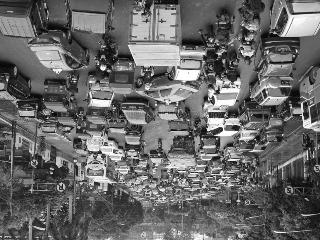mobil: (27, 30, 89, 74), (255, 34, 303, 80), (134, 74, 202, 104), (247, 72, 291, 108), (173, 43, 205, 82), (209, 74, 241, 106), (85, 73, 111, 108), (238, 100, 268, 128), (120, 100, 154, 124), (201, 98, 227, 125)
motor: (93, 34, 119, 72), (214, 8, 232, 50), (237, 32, 255, 65), (136, 64, 156, 88), (68, 73, 80, 100), (108, 100, 120, 124), (193, 118, 203, 136), (76, 107, 84, 128), (156, 138, 164, 154)
